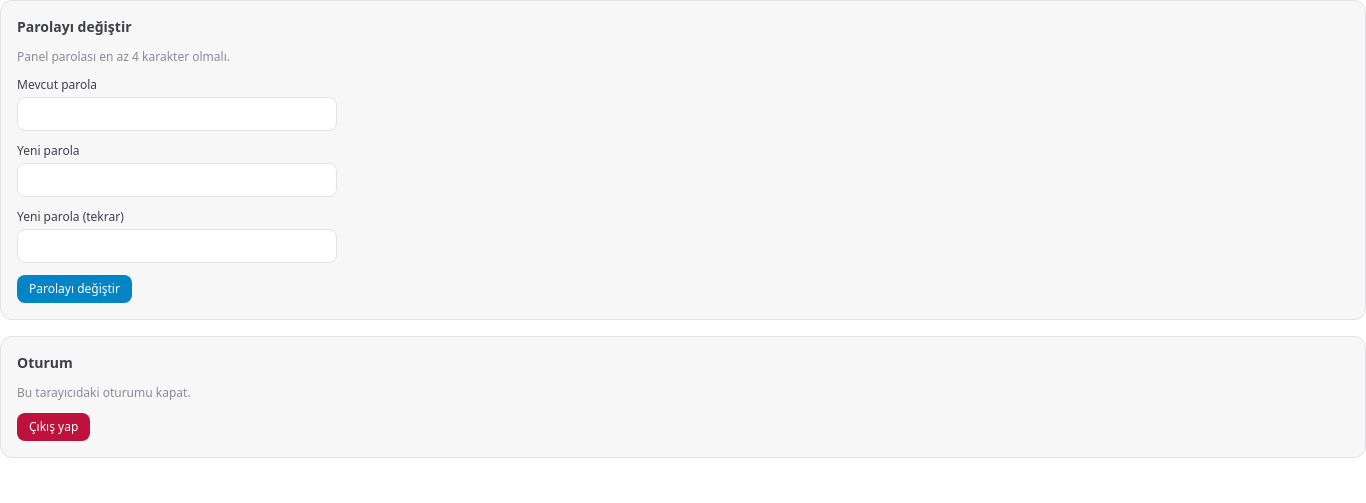
Test: SecuritySection password change › submits valid input and shows success
Type "old-password" into the password field labelled "Mevcut parola".
click(177, 114); type("old-password")  # box [17,97,337,131]
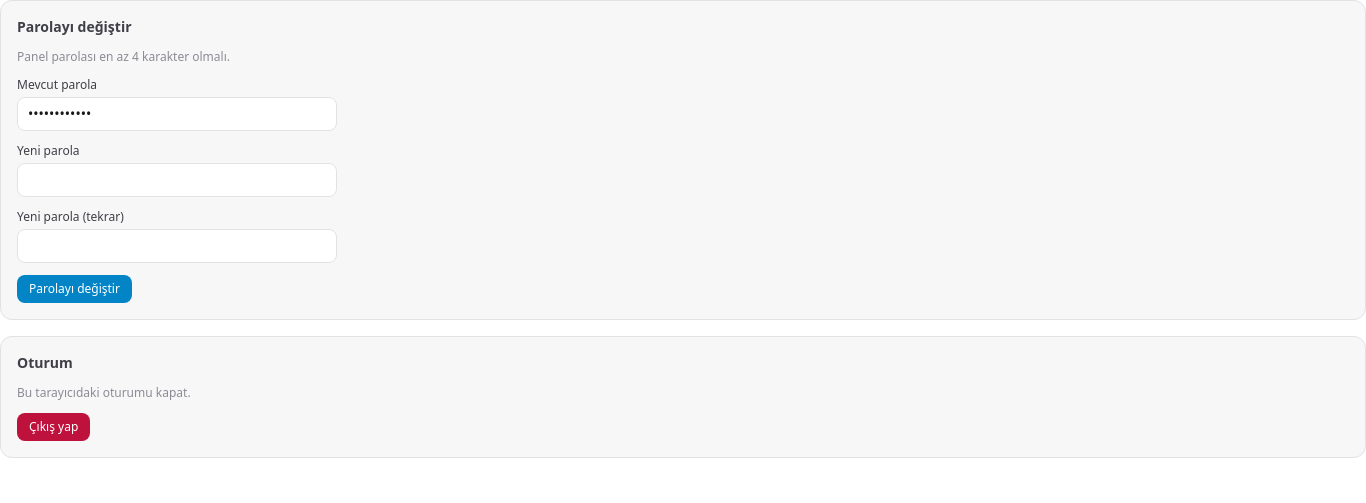
Type "long-enough-pw" into the password field labelled "Yeni parola".
click(177, 180); type("long-enough-pw")  # box [17,163,337,197]
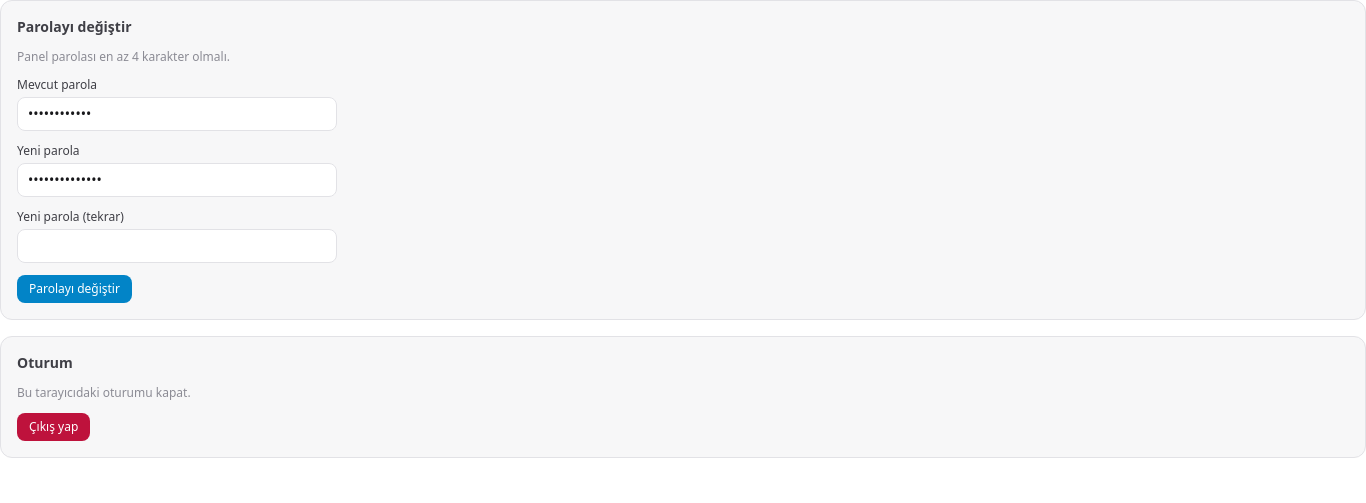
Type "long-enough-pw" into the password field labelled "Yeni parola (tekrar)".
click(177, 246); type("long-enough-pw")  # box [17,229,337,263]
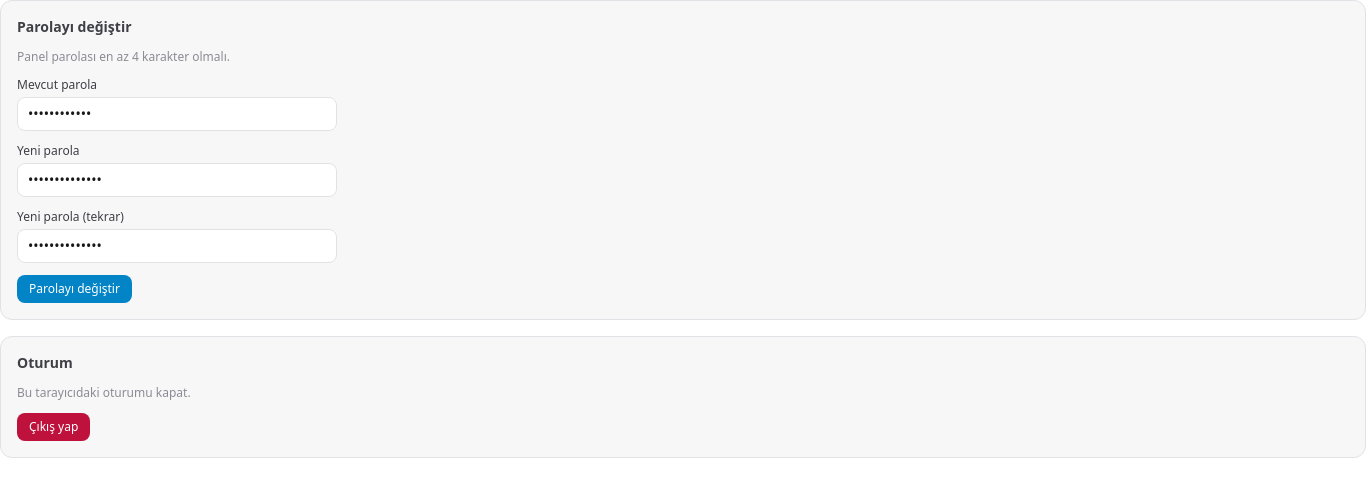
Click the button "Parolayı değiştir".
click(74, 289)  # box [17,275,132,303]
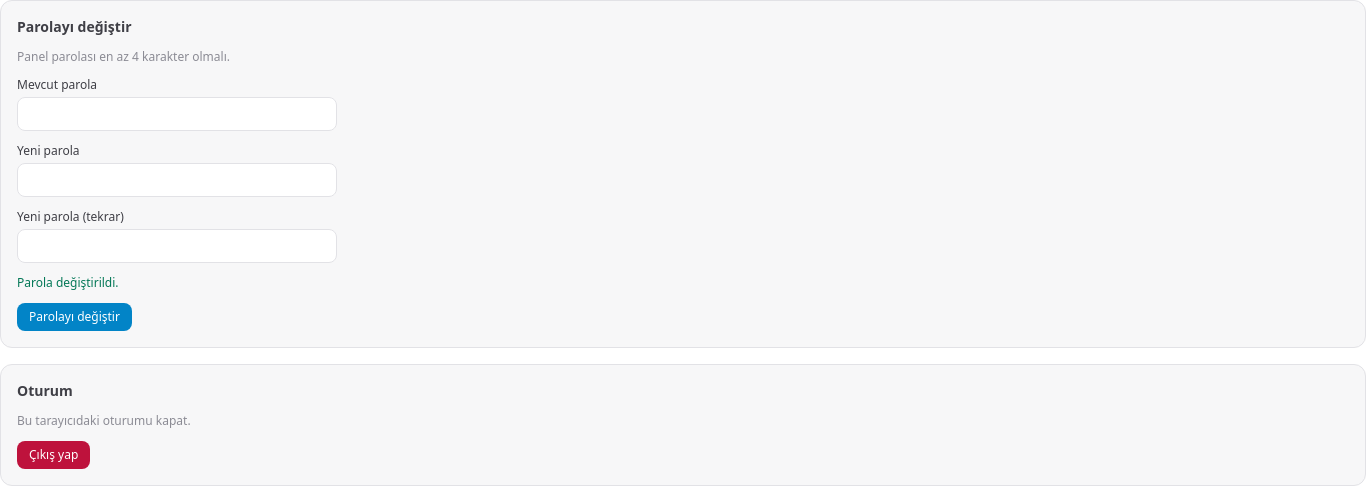
Expected: the text "Parola değiştirildi." is shown, [17,274,119,291]
